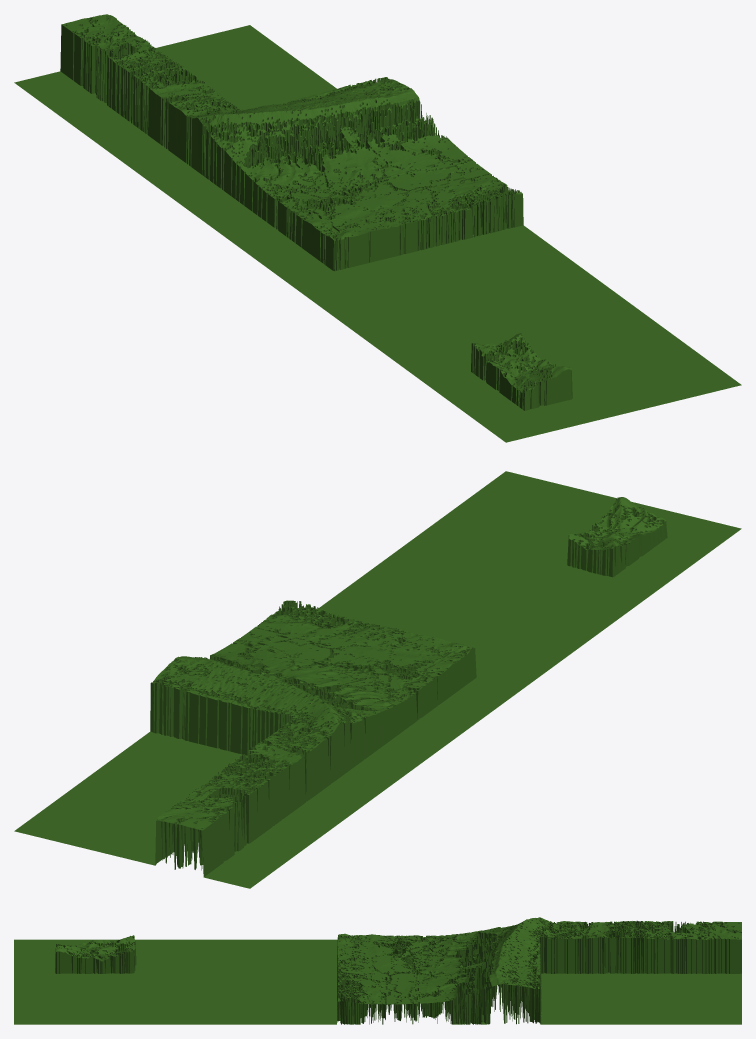
Rendered from alsasua_terrain_LOD1.fbx.
3 views of the same model, one above another, from view 1: azimuth 30°, elevation 25°; view 2: azimuth 150°, elevation 25°; view 3: azimuth 270°, elevation 25° (orthographic). The views are drawn at different scales.
Visible parts, largest first — view 1: Terrain_LOD1_20m; view 2: Terrain_LOD1_20m; view 3: Terrain_LOD1_20m.
Boxes of the visible parts, x1=… form: Terrain_LOD1_20m: x1=14, y1=14, x2=741, y2=442; Terrain_LOD1_20m: x1=14, y1=471, x2=741, y2=888; Terrain_LOD1_20m: x1=14, y1=917, x2=741, y2=1024.
Bounding box in the file's own units: 4980 × 1204 × 17980.
